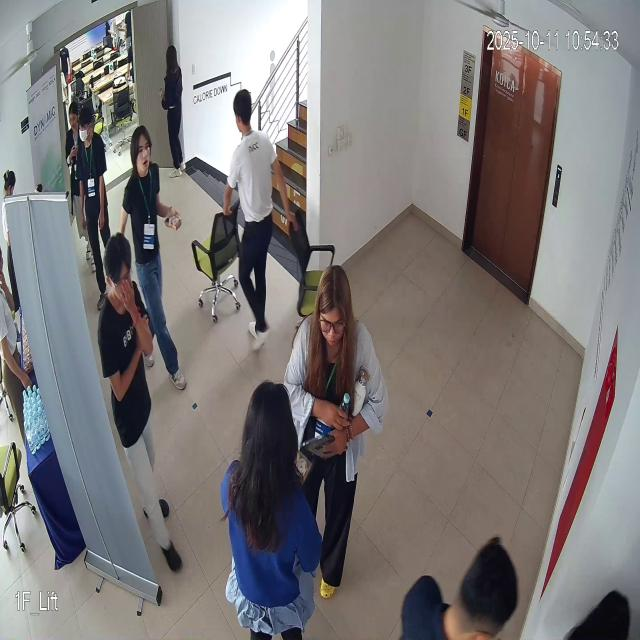face: (126, 116, 158, 186)
